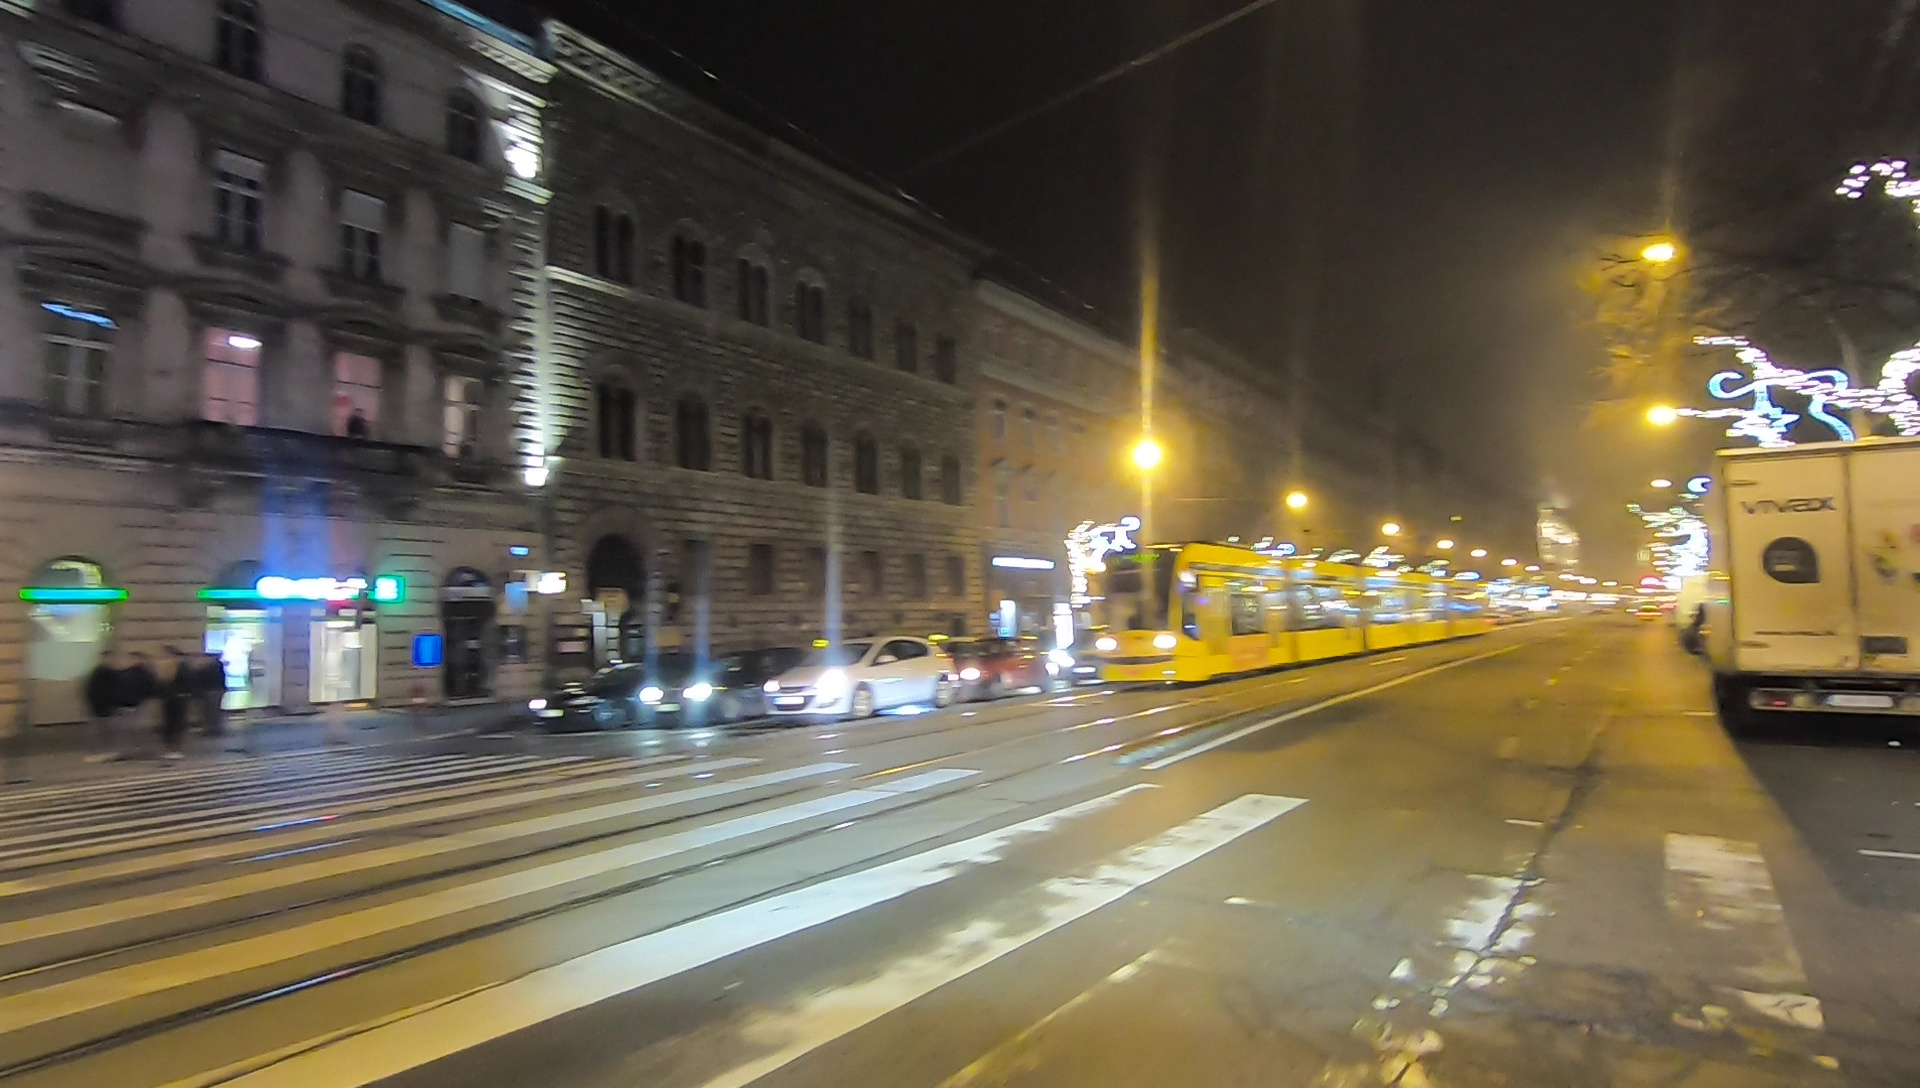person: (84, 650, 121, 763), (158, 652, 195, 763), (121, 647, 154, 749), (195, 649, 228, 745)
